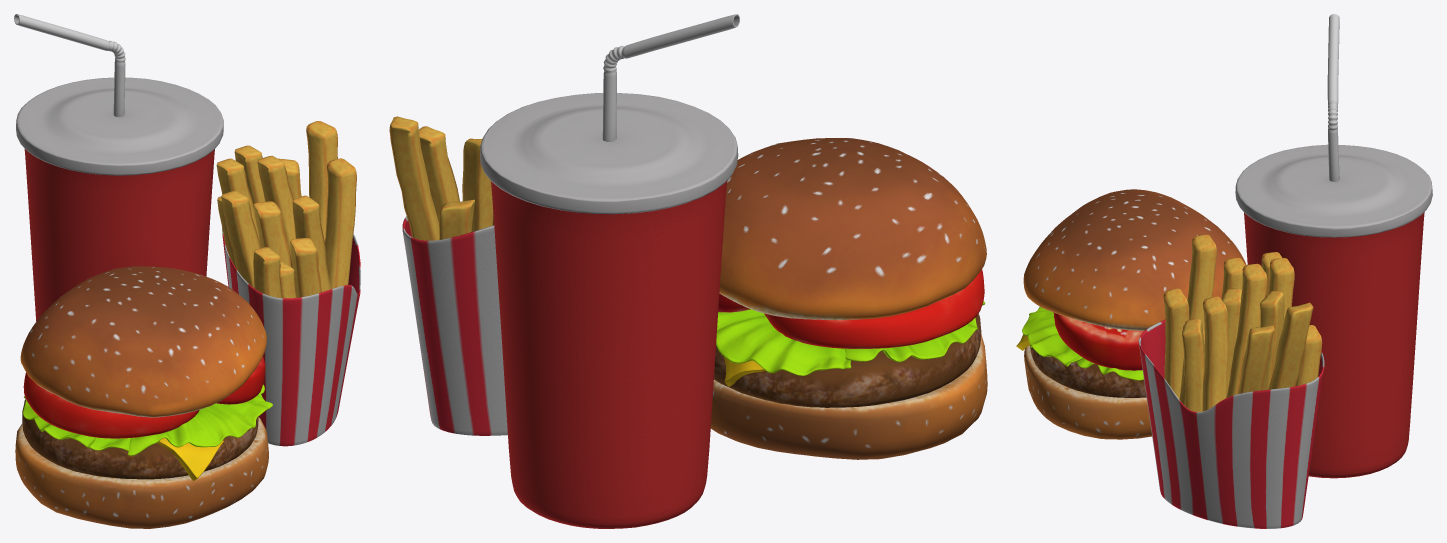
The model's file is Hamburger and Soda.glb.
3 renders of one model, left to right at view 1: azimuth 30°, elevation 25°; view 2: azimuth 150°, elevation 25°; view 3: azimuth 270°, elevation 25°, orthographic. The views are drawn at different scales.
Parts seen in each view (by area): view 1: hamburger_and_soda.1; view 2: hamburger_and_soda.1; view 3: hamburger_and_soda.1.
Boxes of the visible parts, <box> form: hamburger_and_soda.1: <box>14,14,360,528</box>; hamburger_and_soda.1: <box>389,14,987,528</box>; hamburger_and_soda.1: <box>1016,14,1432,528</box>.
Size of the model in its own units: 0.2415 by 0.2451 by 0.238.
Materials: 1 (1 with a texture image).
